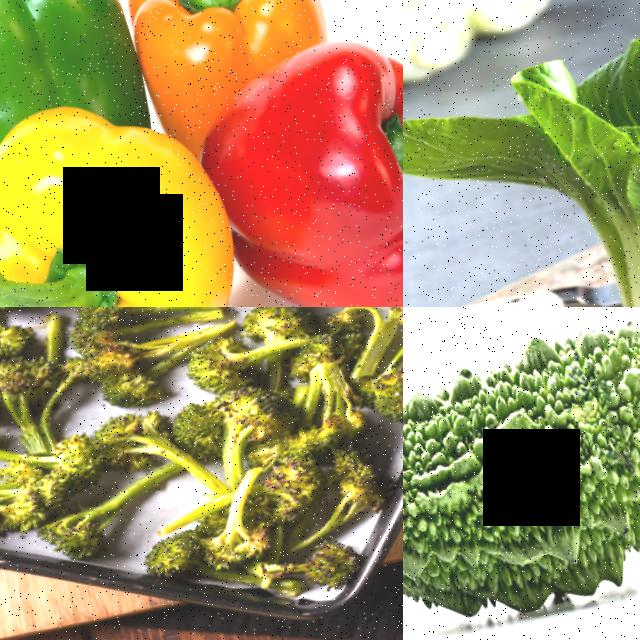bell pepper: (191, 18, 403, 307), (0, 121, 262, 307), (0, 0, 145, 164), (131, 0, 343, 89)
bitter gourd: (403, 307, 640, 640)
bok choy: (458, 0, 640, 307)
broccoli: (154, 455, 397, 618), (48, 307, 231, 413), (0, 354, 66, 454), (0, 307, 33, 368)
